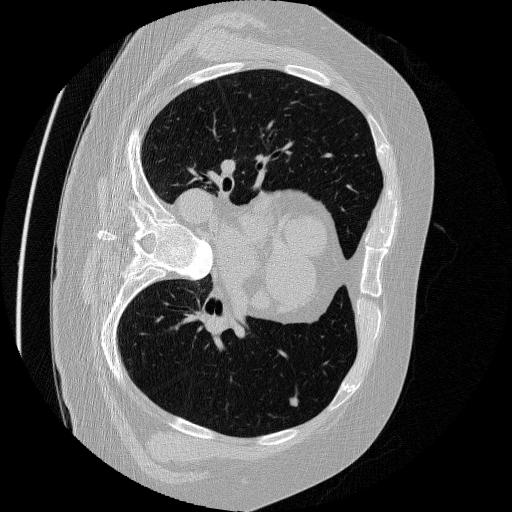nodule: (288, 397, 303, 412)
